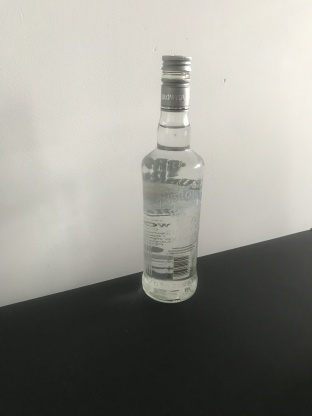nakretka: (159, 52, 192, 113)
